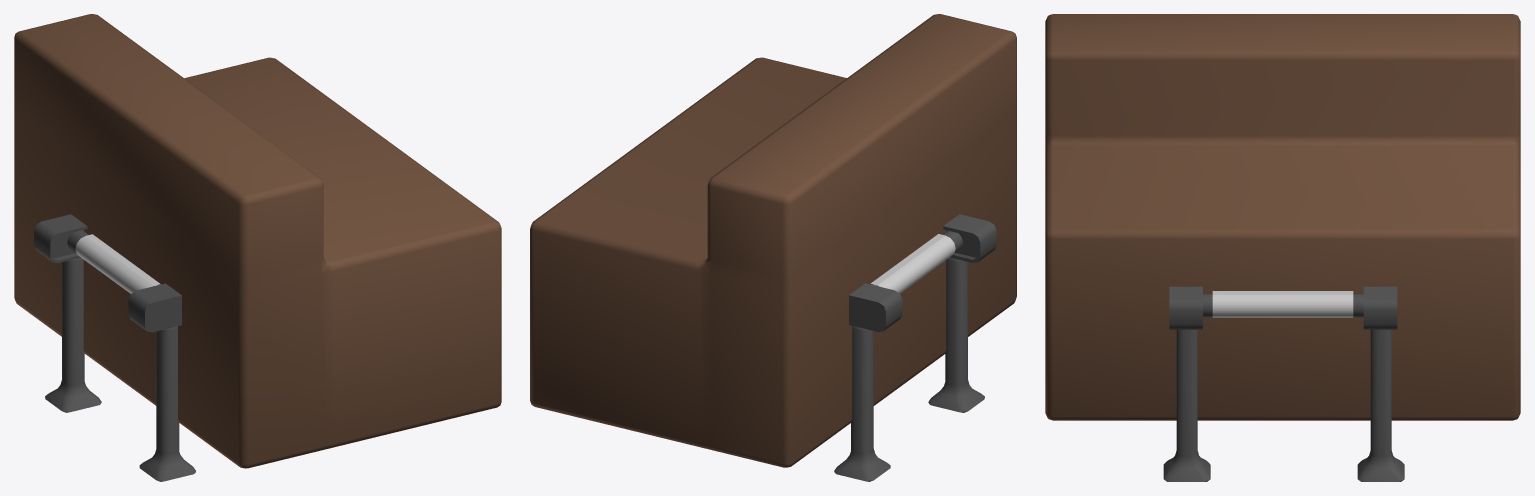
The model's file is bant an table.fbx.
3 views of the same model, side by side, from view 1: azimuth 30°, elevation 25°; view 2: azimuth 150°, elevation 25°; view 3: azimuth 270°, elevation 25° (orthographic). The views are drawn at different scales.
Visible parts, largest first — view 1: table, bant; view 2: table, bant; view 3: table, bant.
Boxes of the visible parts, x1=… form: table: x1=14, y1=14, x2=501, y2=468; bant: x1=34, y1=214, x2=195, y2=481; table: x1=530, y1=14, x2=1016, y2=467; bant: x1=834, y1=214, x2=996, y2=481; table: x1=1045, y1=14, x2=1520, y2=420; bant: x1=1163, y1=286, x2=1404, y2=481.
Size of the model in its own units: 841 by 777 by 1017.
